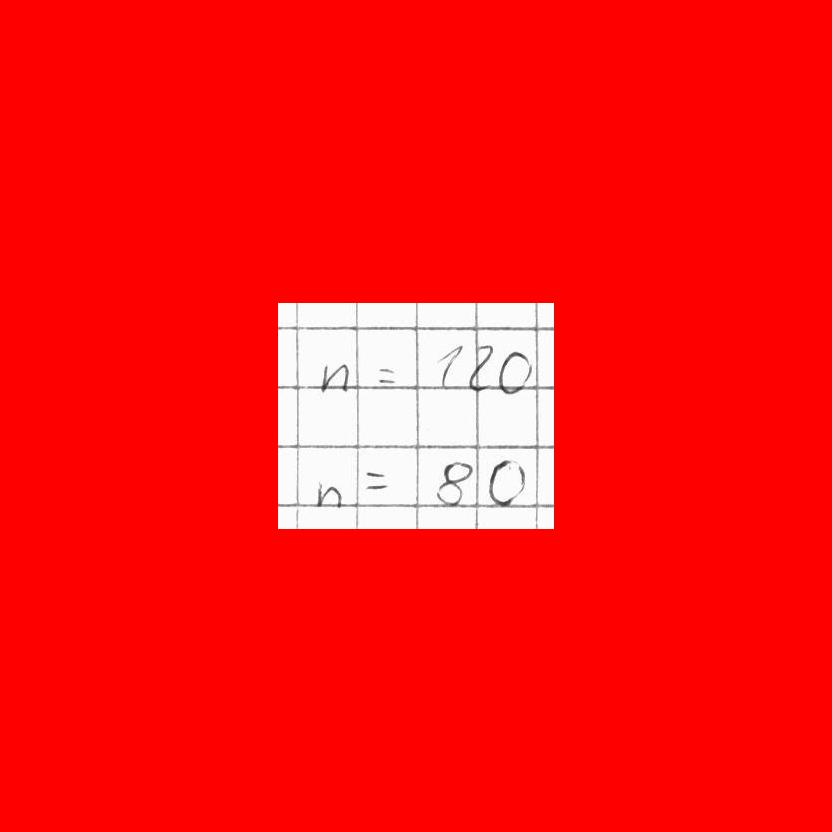Char: (485, 456, 527, 510), (432, 456, 475, 507), (496, 346, 531, 397), (466, 343, 496, 396), (433, 341, 465, 388), (318, 357, 350, 396), (311, 479, 342, 508), (361, 468, 391, 494), (374, 363, 398, 384)
